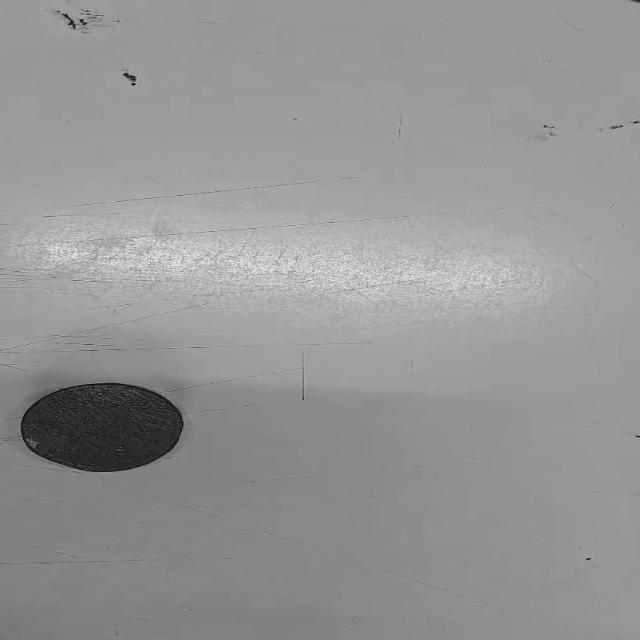rcircle: (21, 383, 183, 472)
